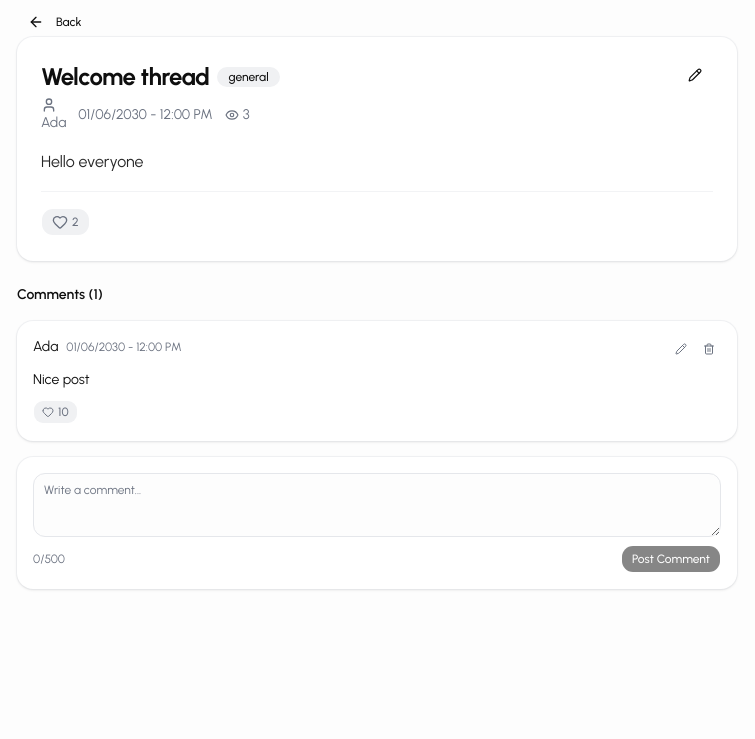
discussion detail route › adds a comment and appends it to the discussion
The image size is (755, 739).
Type "Second reply" into the text box with placeholder "Write a comment..." at (377, 505), box [33,473,721,537]
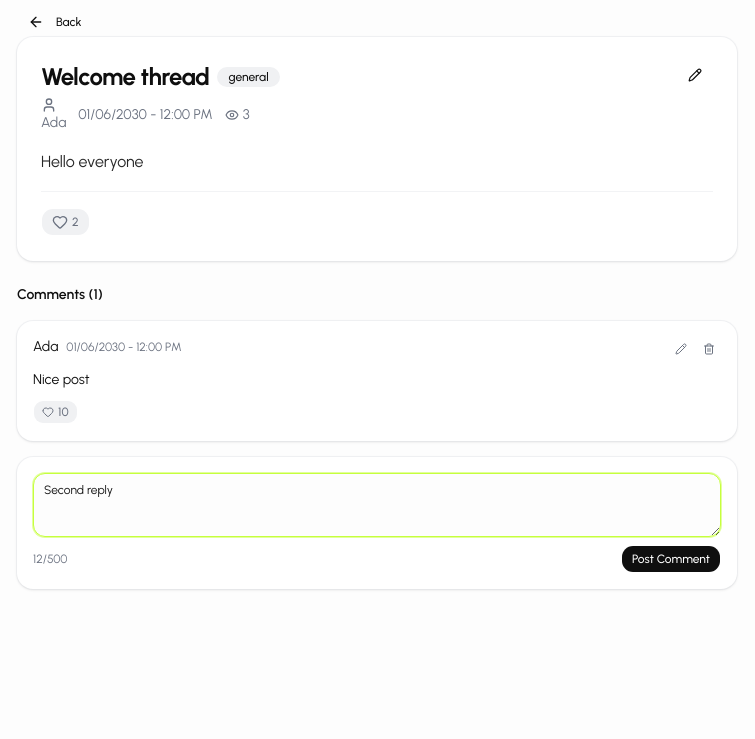
Click the button "Post Comment" at (671, 559), box [621,545,721,573]
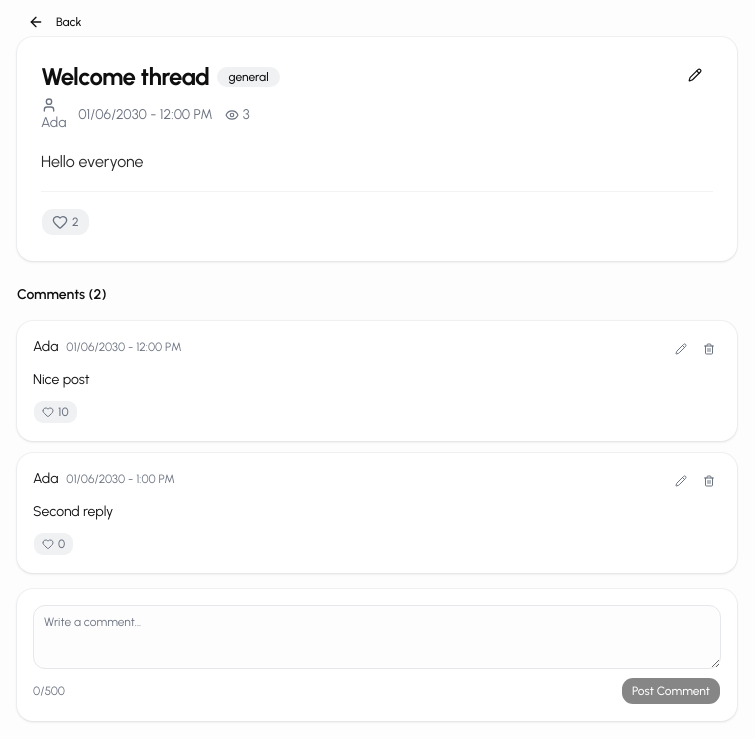
Result: the text "Second reply" is shown at [33,503,113,520]
